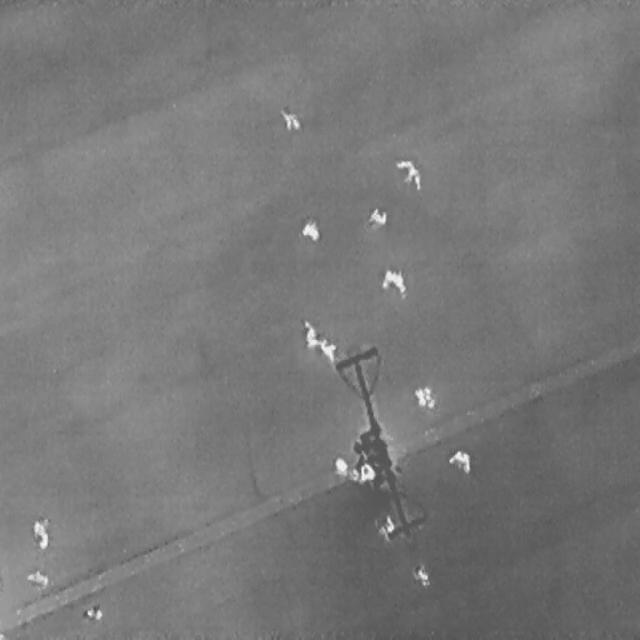Person: (391, 149, 426, 195), (377, 262, 412, 302), (278, 102, 300, 132), (412, 385, 435, 409), (302, 317, 319, 348), (448, 449, 470, 471), (367, 206, 387, 228), (33, 519, 47, 550), (319, 336, 335, 362), (413, 562, 429, 588), (301, 220, 319, 241), (358, 462, 375, 482), (79, 605, 101, 620), (333, 455, 348, 475), (385, 511, 395, 534)
